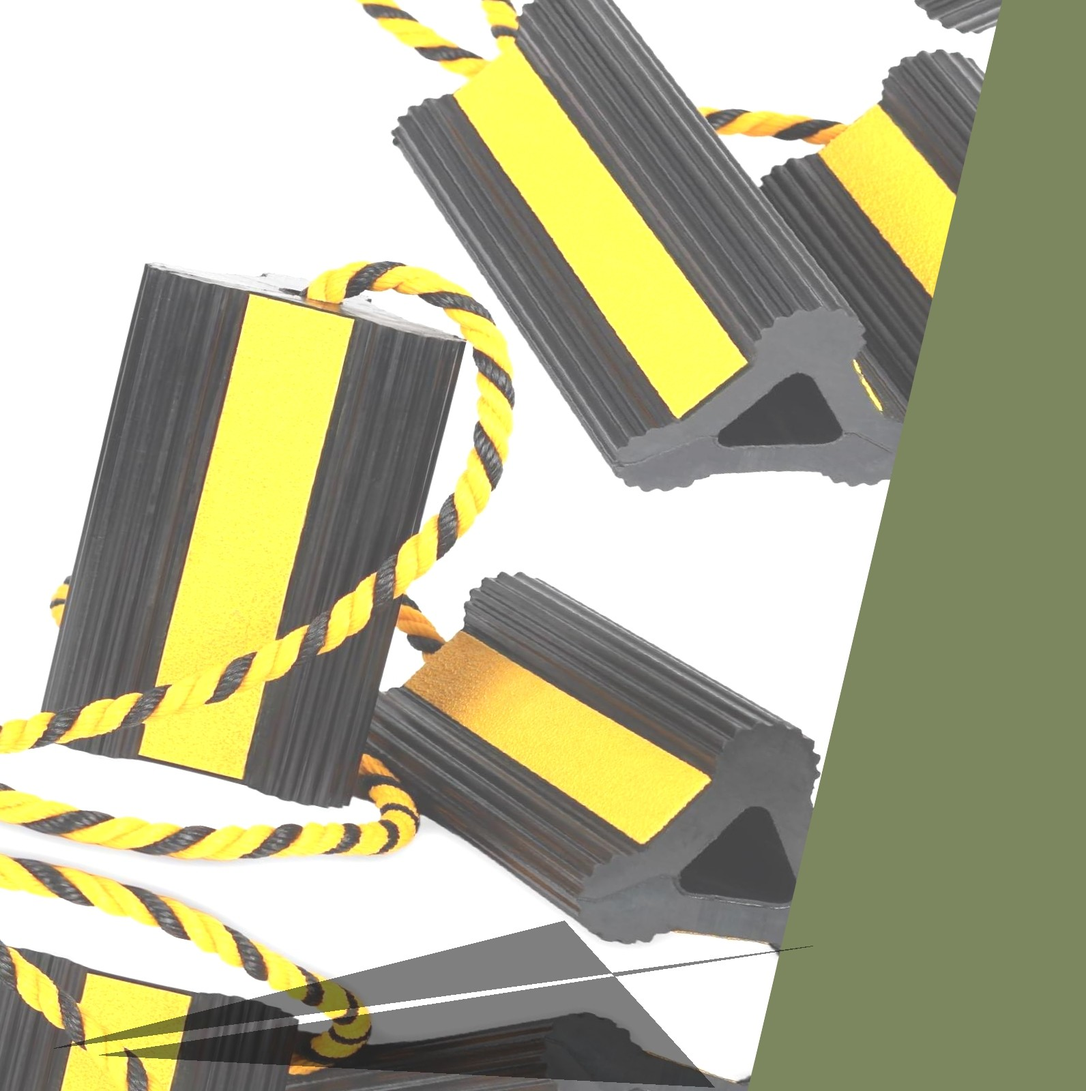chock: (322, 0, 1010, 560), (322, 539, 938, 1006), (14, 236, 477, 819), (687, 12, 1086, 624), (228, 941, 844, 1091)
